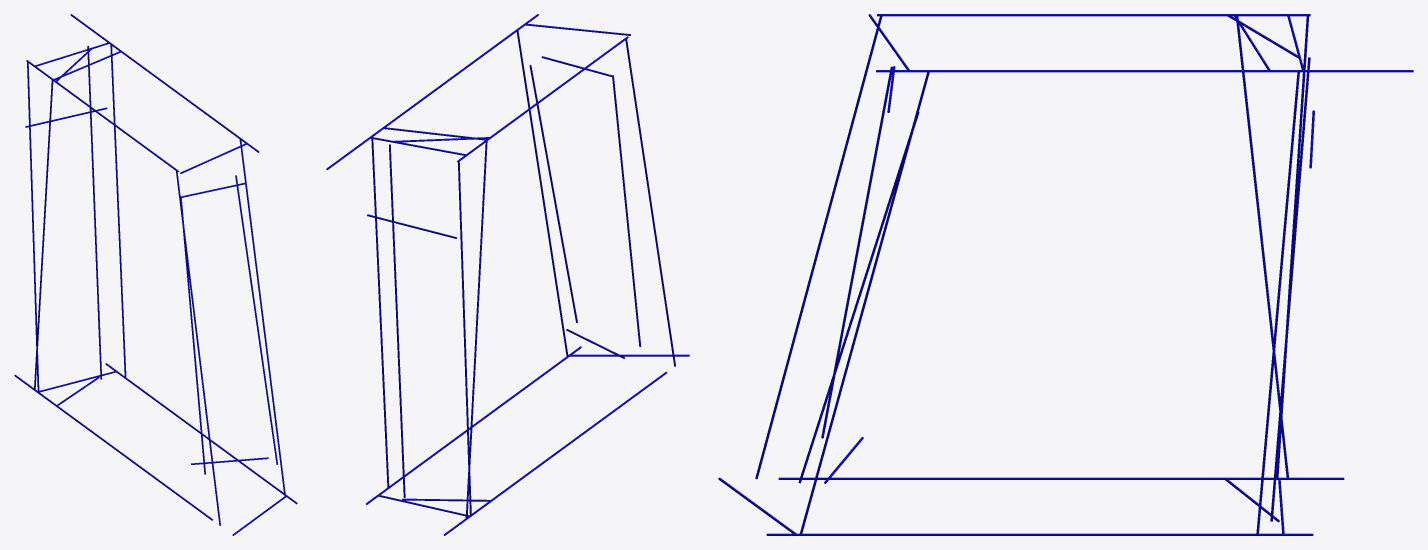
The model's file is corrected_3d_strokes.glb.
The picture shows the model from 3 angles, left to right: view 1: azimuth 30°, elevation 25°; view 2: azimuth 150°, elevation 25°; view 3: azimuth 270°, elevation 25°; orthographic projection. The views are drawn at different scales.
Visible parts, largest first — view 1: world; view 2: world; view 3: world.
Part boxes in pixels (x1,y1,x2,y2): world: [14, 14, 297, 535]; world: [326, 14, 689, 535]; world: [718, 14, 1413, 535].
Bounding box in the file's own units: 2.11 × 8.04 × 10.87.
